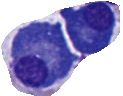objectness: (6, 44, 56, 94), (74, 0, 123, 41)
